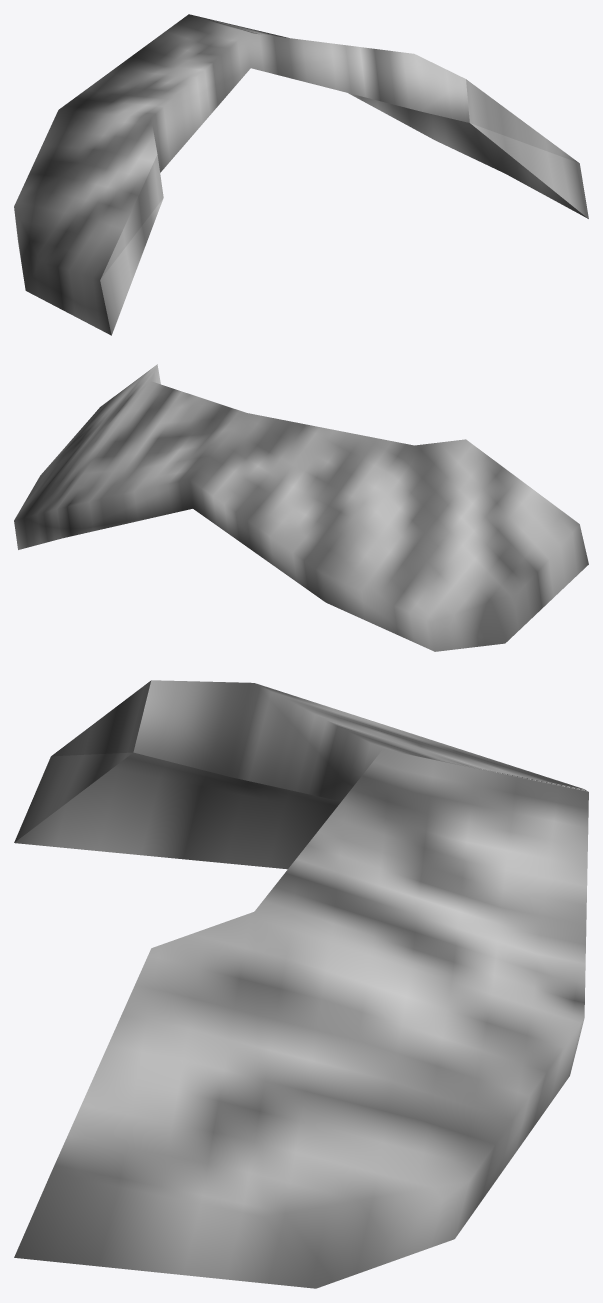
Rendered from FakeBeard_Bob_Beard_Moustache.fbx.
The picture shows the model from 3 angles, top to bottom: view 1: azimuth 30°, elevation 25°; view 2: azimuth 150°, elevation 25°; view 3: azimuth 270°, elevation 25°; orthographic projection. The views are drawn at different scales.
Visible parts, largest first — view 1: BoxOfJars003; view 2: BoxOfJars003; view 3: BoxOfJars003.
Boxes of the visible parts, bbox=[...] form: BoxOfJars003: bbox=[14, 14, 588, 335]; BoxOfJars003: bbox=[14, 364, 588, 651]; BoxOfJars003: bbox=[14, 680, 588, 1288].
Bounding box in the file's own units: 5.17 × 1.91 × 3.02.
